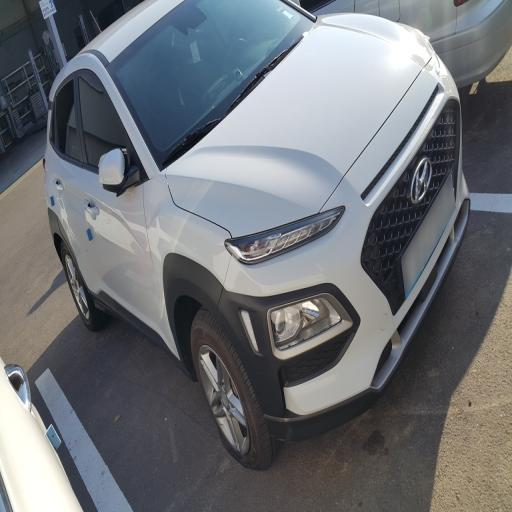normal: (12, 10, 506, 473)
